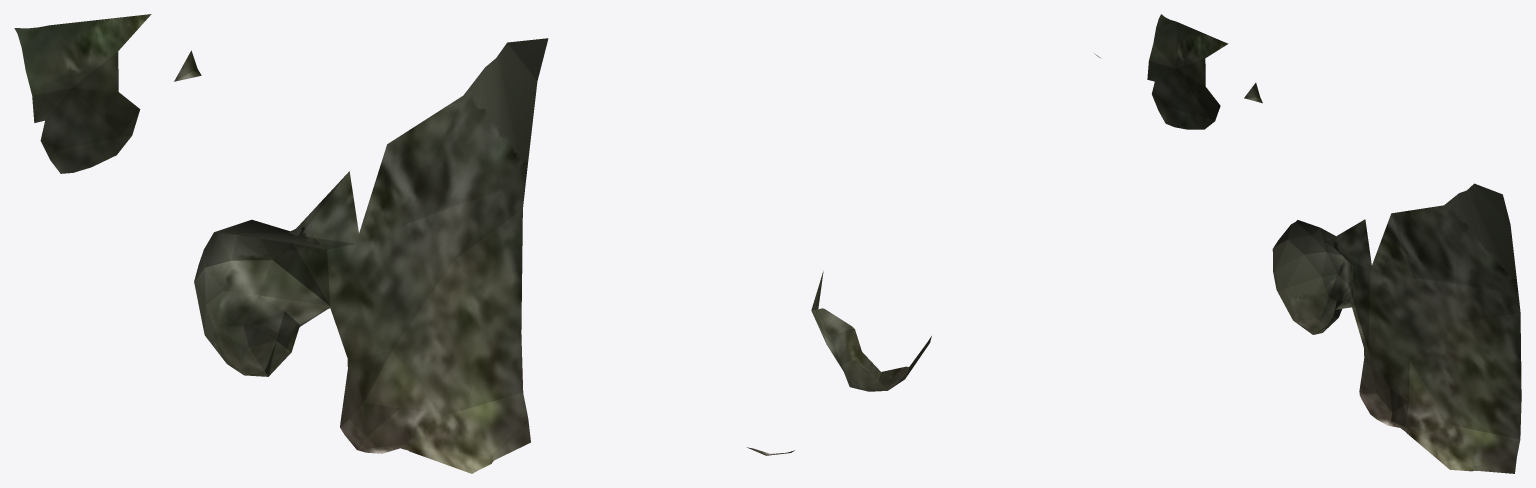
3 views of the same model, side by side, from view 1: azimuth 30°, elevation 25°; view 2: azimuth 150°, elevation 25°; view 3: azimuth 330°, elevation 25° (orthographic). The views are drawn at different scales.
Bounding box in the file's own units: 2.95 × 2.95 × 0.4415.
1 material, 1 textured.
